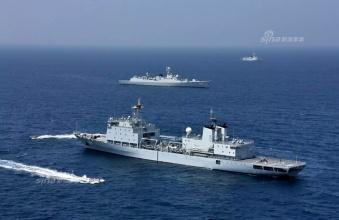warship: (69, 95, 312, 180), (113, 63, 219, 91)
